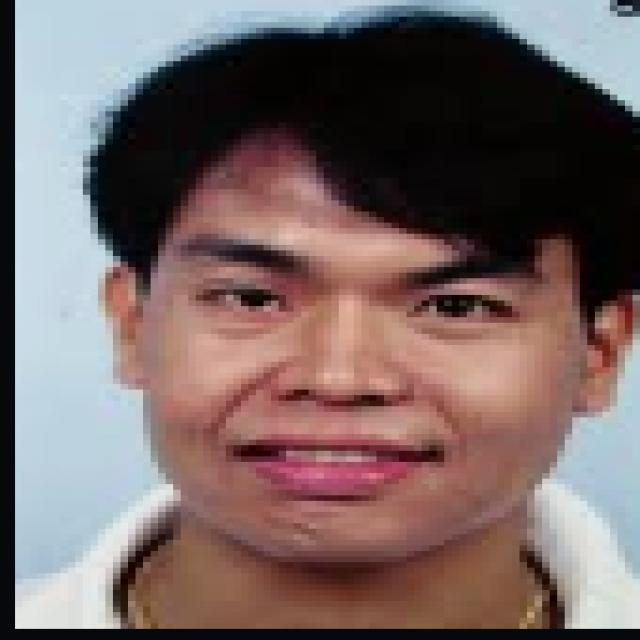normal_face: (136, 70, 585, 534)
